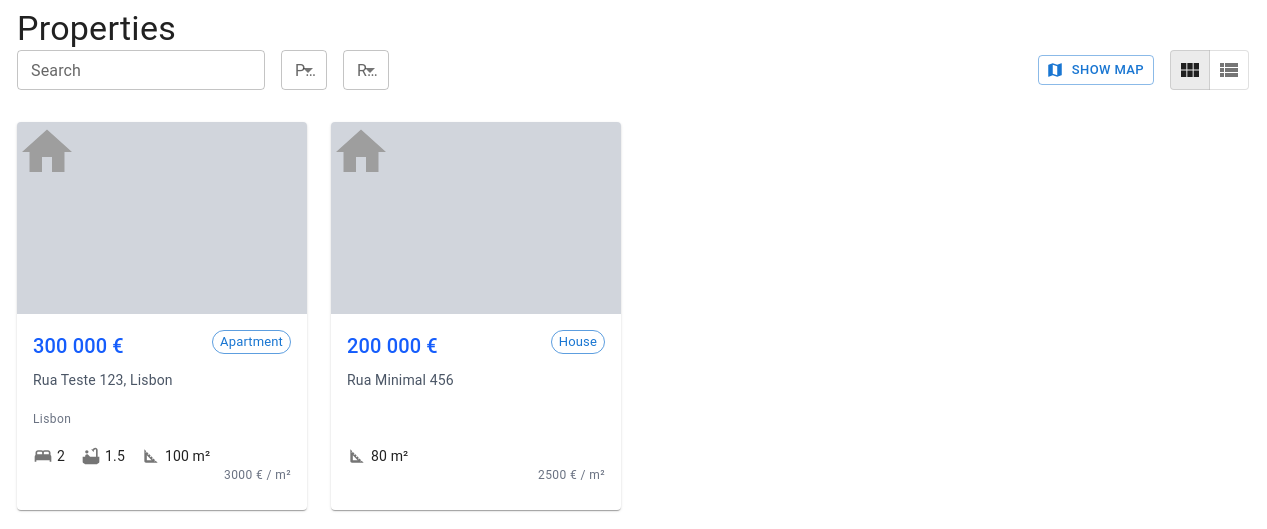
Test: PropertiesPage › toggles map view
Click the button "Show Map". click: point(1096, 70)
box: [1038,55,1154,85]
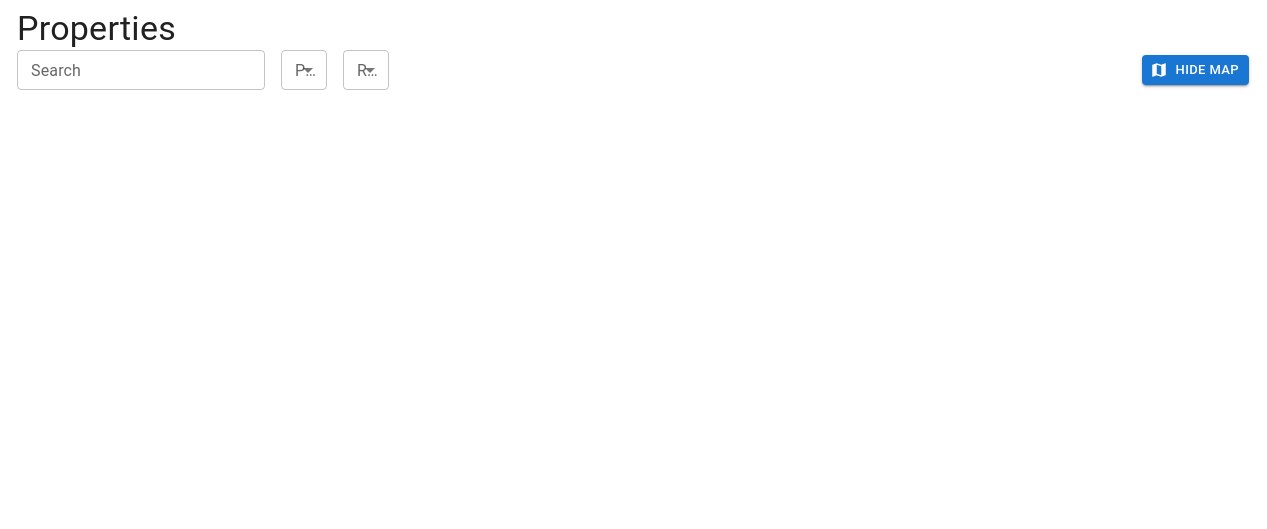
expect the button "Hide Map" is shown: met, box [1142,55,1249,85]
